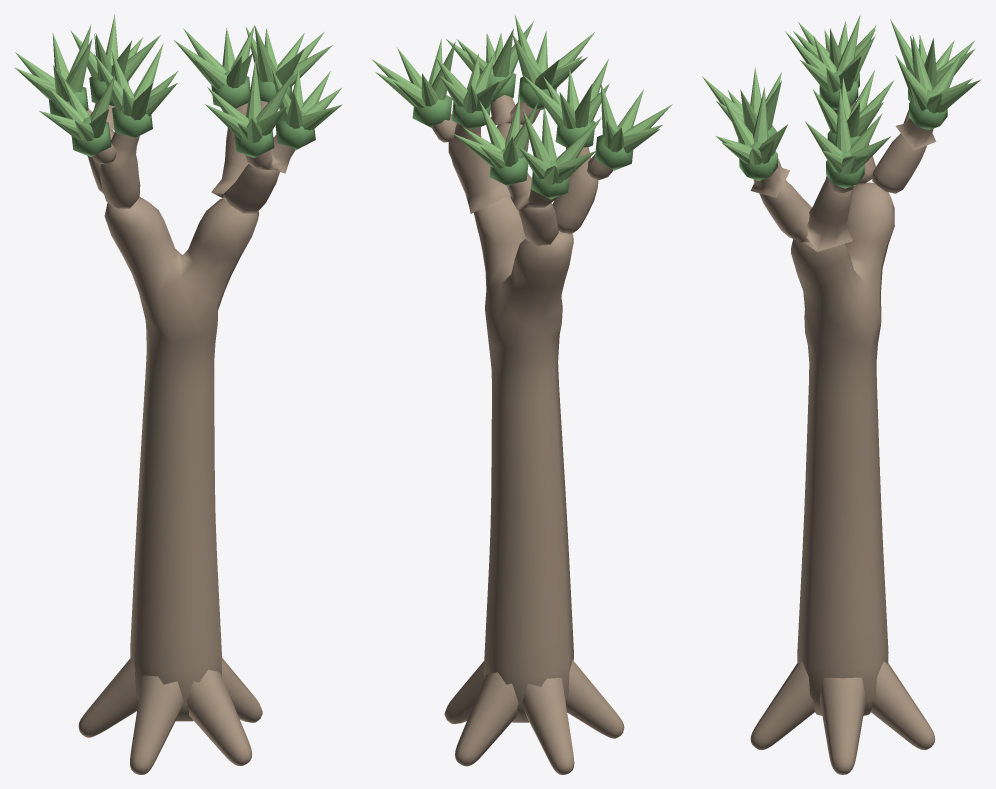
Rendered from tree.giant.glb.
The picture shows the model from 3 angles, left to right: view 1: azimuth 30°, elevation 25°; view 2: azimuth 150°, elevation 25°; view 3: azimuth 270°, elevation 25°; orthographic projection. The views are drawn at different scales.
Parts seen in each view (by area): view 1: Bark, Leaf, LeafDark; view 2: Bark, Leaf, LeafDark; view 3: Bark, Leaf, LeafDark.
Boxes of the visible parts, <box> form: Bark: <box>78,100,294,774</box>; Leaf: <box>14,14,342,142</box>; LeafDark: <box>49,70,315,157</box>; Bark: <box>431,95,624,774</box>; Leaf: <box>372,15,672,184</box>; LeafDark: <box>412,65,633,199</box>; Bark: <box>750,101,936,774</box>; Leaf: <box>702,15,980,174</box>; LeafDark: <box>738,70,947,188</box>.
Bounding box in the file's own units: 0.5119 × 1.17 × 0.432.
